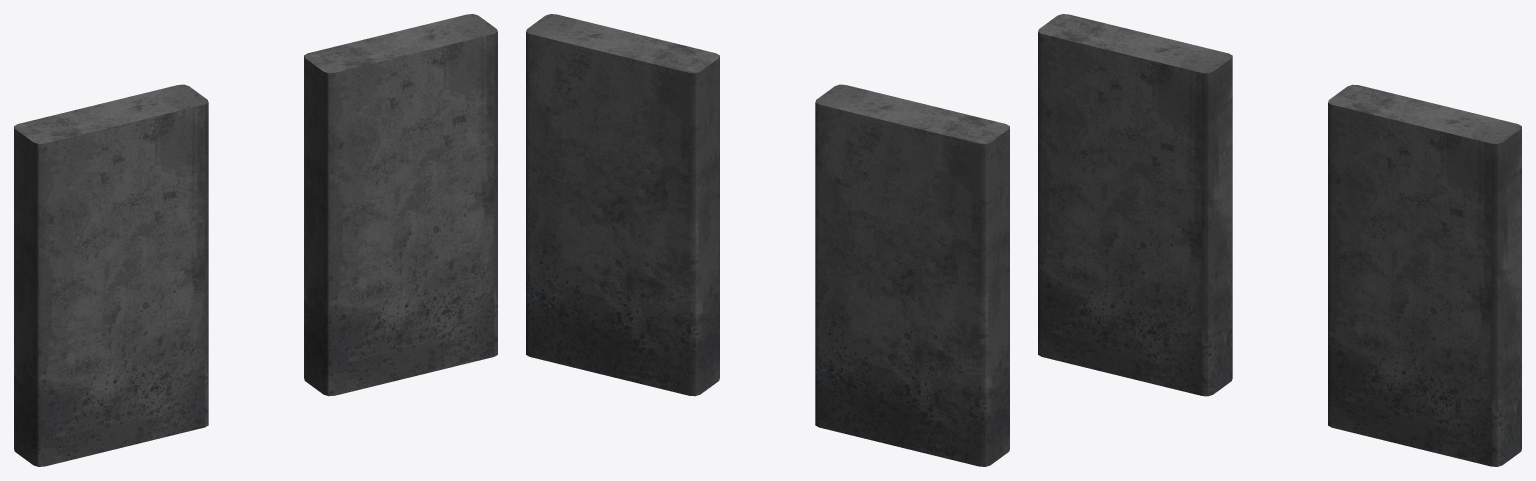
File: MR_Door_S_Tex.fbx
3 views of the same model, side by side, from view 1: azimuth 30°, elevation 25°; view 2: azimuth 150°, elevation 25°; view 3: azimuth 330°, elevation 25° (orthographic).
Visible parts, largest first — view 1: pasted__pasted__pasted__M_Wall_Single1, pasted__pasted__pasted__pasted__M_Wall_Single1; view 2: pasted__pasted__pasted__M_Wall_Single1, pasted__pasted__pasted__pasted__M_Wall_Single1; view 3: pasted__pasted__pasted__M_Wall_Single1, pasted__pasted__pasted__pasted__M_Wall_Single1.
Part boxes in pixels (x1,y1,x2,y2): pasted__pasted__pasted__M_Wall_Single1: (14,84,208,466); pasted__pasted__pasted__pasted__M_Wall_Single1: (304,14,497,396); pasted__pasted__pasted__M_Wall_Single1: (815,84,1009,466); pasted__pasted__pasted__pasted__M_Wall_Single1: (526,14,719,396); pasted__pasted__pasted__M_Wall_Single1: (1038,14,1232,396); pasted__pasted__pasted__pasted__M_Wall_Single1: (1328,84,1521,466).
Size of the model in its own units: 150 by 100 by 15.
